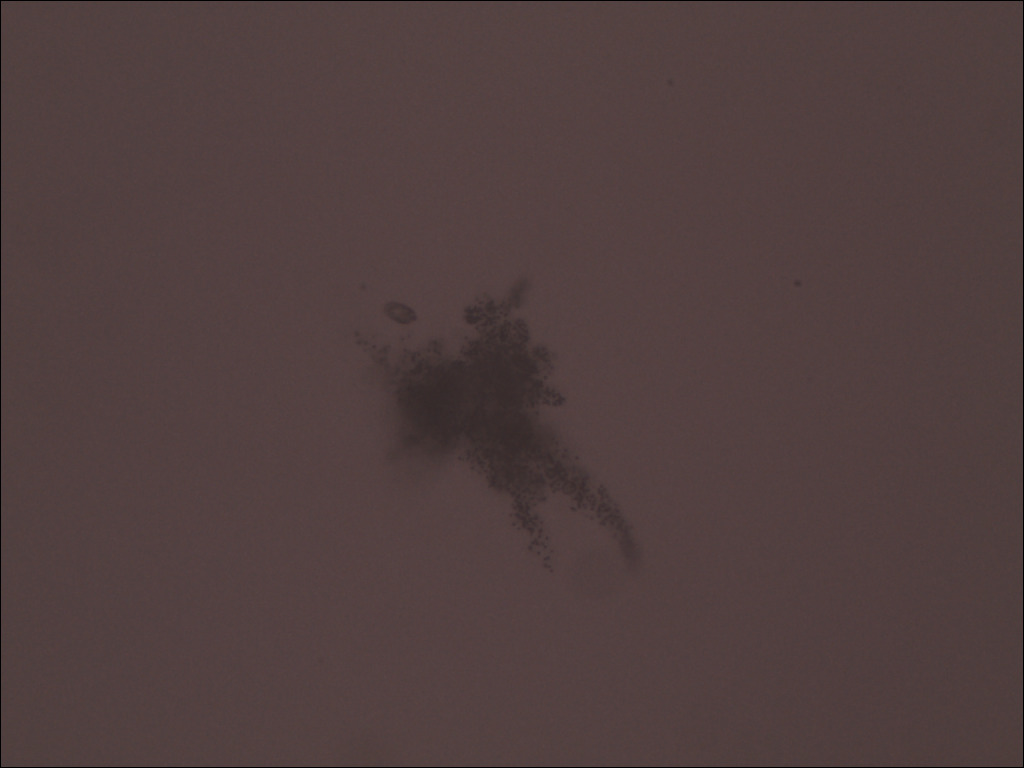amoeba: (335, 270, 678, 583)
